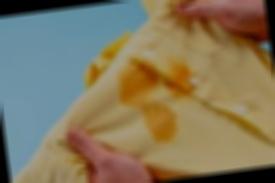mustard: (115, 61, 164, 107), (144, 97, 179, 144), (163, 60, 193, 96)
